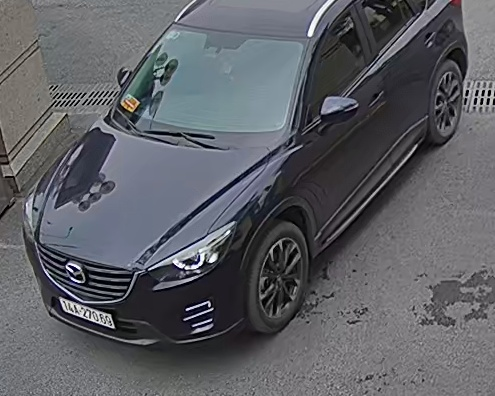vehicle plate: (54, 293, 116, 328)
